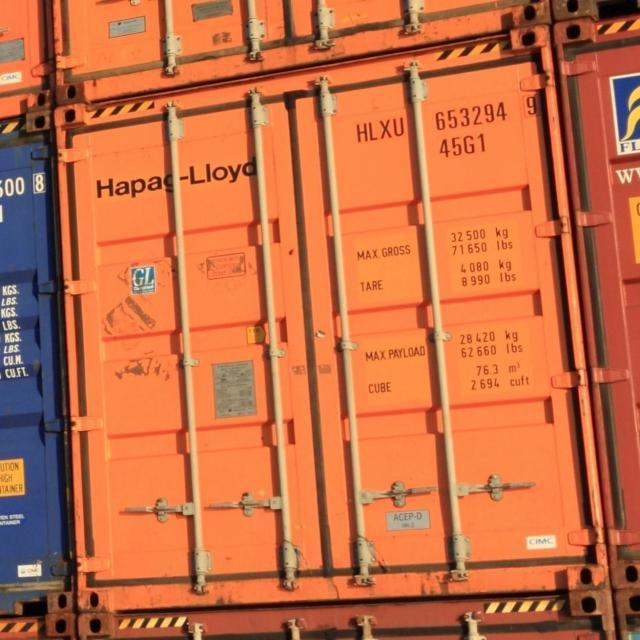ISO: (440, 132, 488, 157)
container_number: (369, 104, 512, 130), (0, 175, 44, 198)
